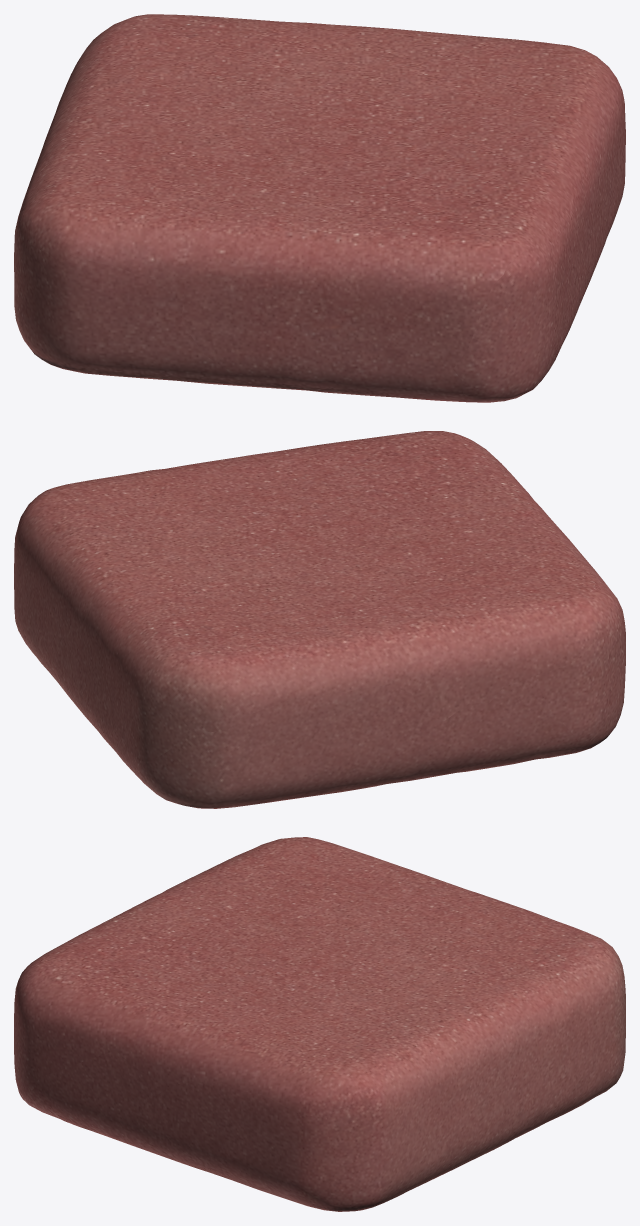
Rendered from GumdropPlatform.obj.
3 views of the same model, one above another, from view 1: azimuth 30°, elevation 25°; view 2: azimuth 150°, elevation 25°; view 3: azimuth 270°, elevation 25° (orthographic). The views are drawn at different scales.
Visible parts, largest first — view 1: input; view 2: input; view 3: input.
Part boxes in pixels (x1,y1,x2,y2): input: [14, 14, 625, 402]; input: [14, 431, 625, 808]; input: [14, 837, 625, 1211].
Size of the model in its own units: 9.96 by 2.51 by 10.
Materials: 1 (1 with a texture image).
